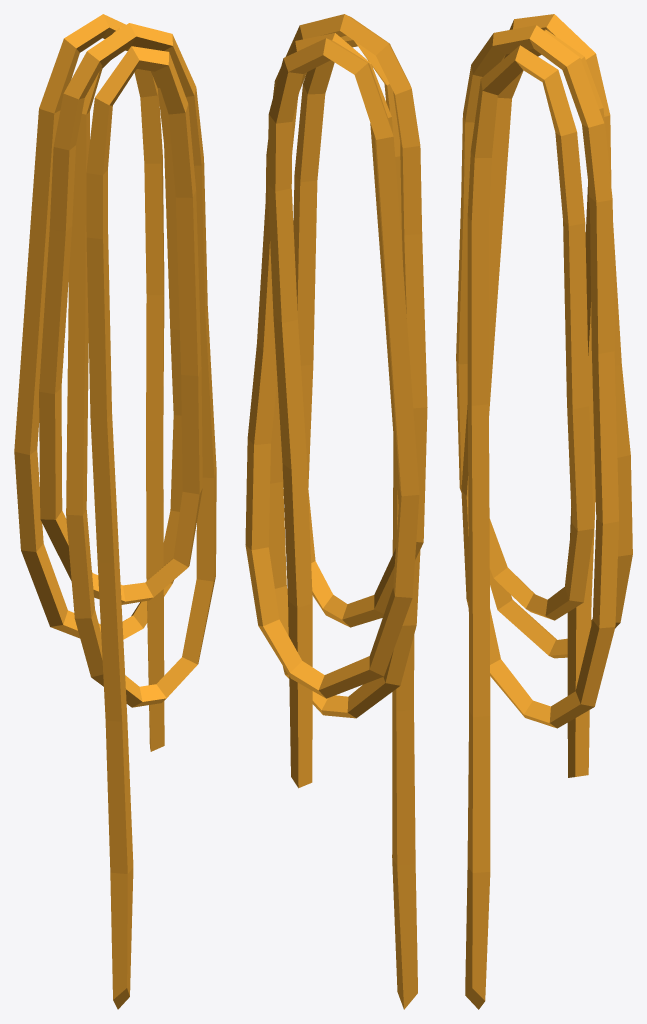
The model's file is SM_Rope_Hang_A.fbx.
The picture shows the model from 3 angles, left to right: view 1: azimuth 30°, elevation 25°; view 2: azimuth 150°, elevation 25°; view 3: azimuth 330°, elevation 25°; orthographic projection. The views are drawn at different scales.
Visible parts, largest first — view 1: rope-hang-a; view 2: rope-hang-a; view 3: rope-hang-a.
Part boxes in pixels (x1,y1,x2,y2): rope-hang-a: [14, 14, 216, 1009]; rope-hang-a: [245, 14, 427, 1009]; rope-hang-a: [456, 14, 632, 1009].
Bounding box in the file's own units: 0.2106 × 1.09 × 0.1183.
